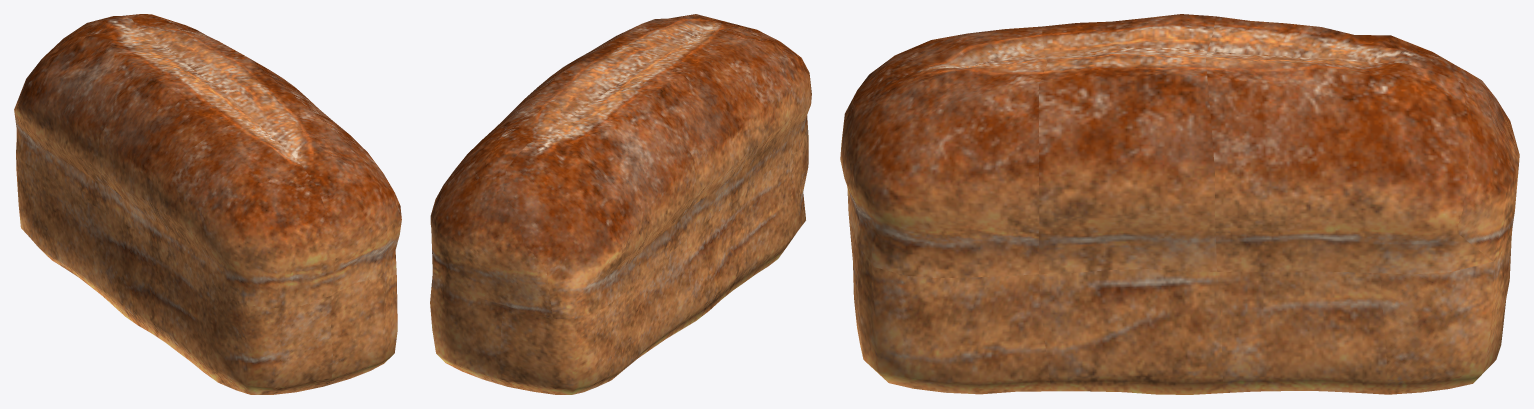
Rendered from Bread_1_bread1_a_mesh.obj.
3 views of the same model, side by side, from view 1: azimuth 30°, elevation 25°; view 2: azimuth 150°, elevation 25°; view 3: azimuth 270°, elevation 25° (orthographic). The views are drawn at different scales.
Size of the model in its own units: 0.1201 by 0.1435 by 0.2801.
